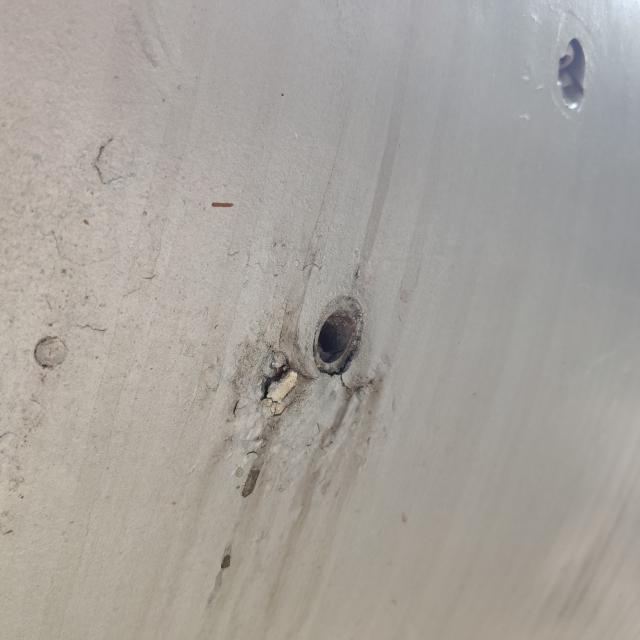crack: (243, 348, 320, 425)
